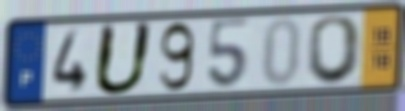0: (260, 15, 305, 89)
4: (50, 27, 90, 95)
5: (205, 15, 254, 93)
9: (157, 20, 197, 93)
O: (304, 13, 365, 87)
U: (90, 20, 157, 98)
